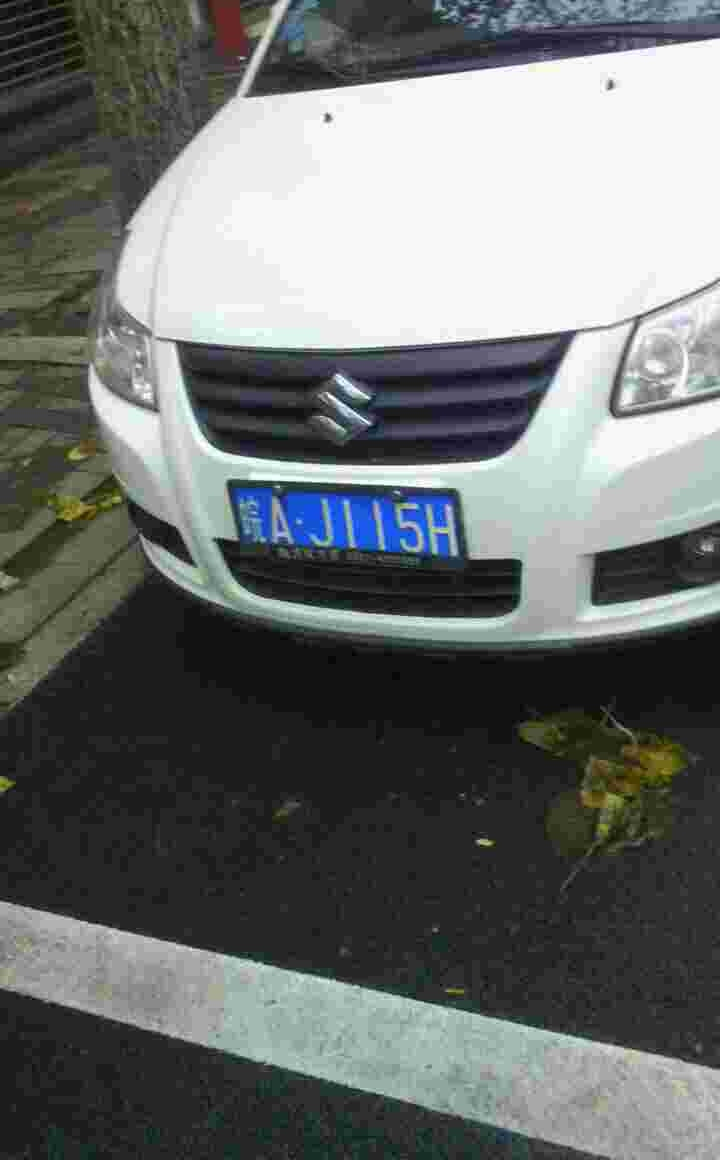license_plate: (225, 490, 470, 563)
